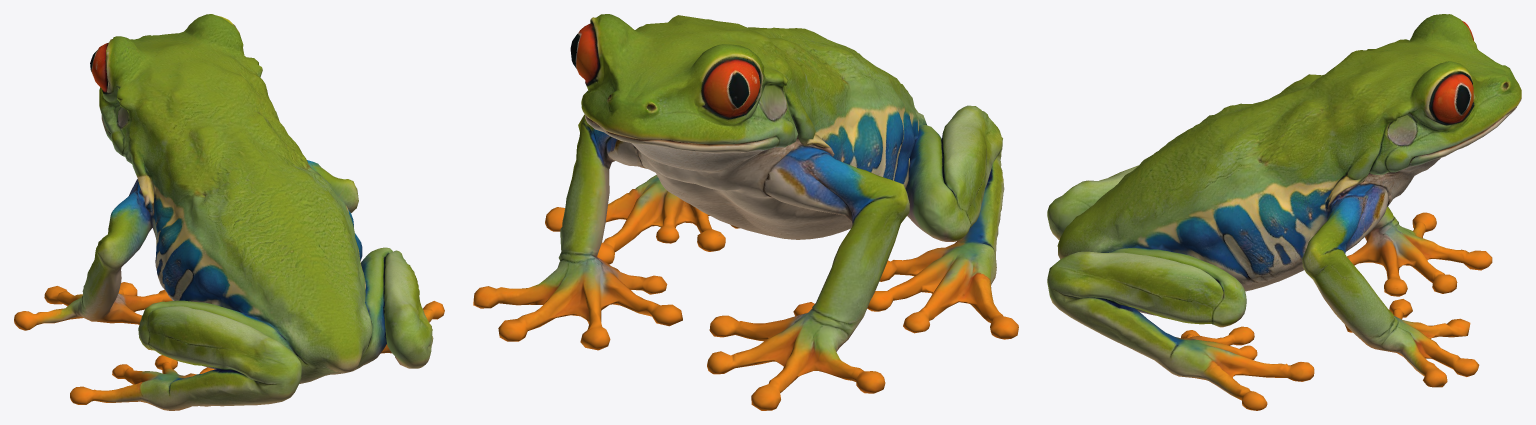
File: frog-tripo-h31.glb
3 renders of one model, left to right at view 1: azimuth 30°, elevation 25°; view 2: azimuth 150°, elevation 25°; view 3: azimuth 270°, elevation 25°, orthographic. The views are drawn at different scales.
Parts seen in each view (by area): view 1: tripo_node_237c334d-1fba-4f35-ae80-e924e93b8d54; view 2: tripo_node_237c334d-1fba-4f35-ae80-e924e93b8d54; view 3: tripo_node_237c334d-1fba-4f35-ae80-e924e93b8d54.
Part boxes in pixels (box(x1,y1,x2,y2)): tripo_node_237c334d-1fba-4f35-ae80-e924e93b8d54: box(14, 14, 444, 410); tripo_node_237c334d-1fba-4f35-ae80-e924e93b8d54: box(473, 14, 1018, 410); tripo_node_237c334d-1fba-4f35-ae80-e924e93b8d54: box(1047, 14, 1521, 410).
Bounding box in the file's own units: 0.9285 × 0.634 × 0.9792.
Materials: 1 (1 with a texture image).
